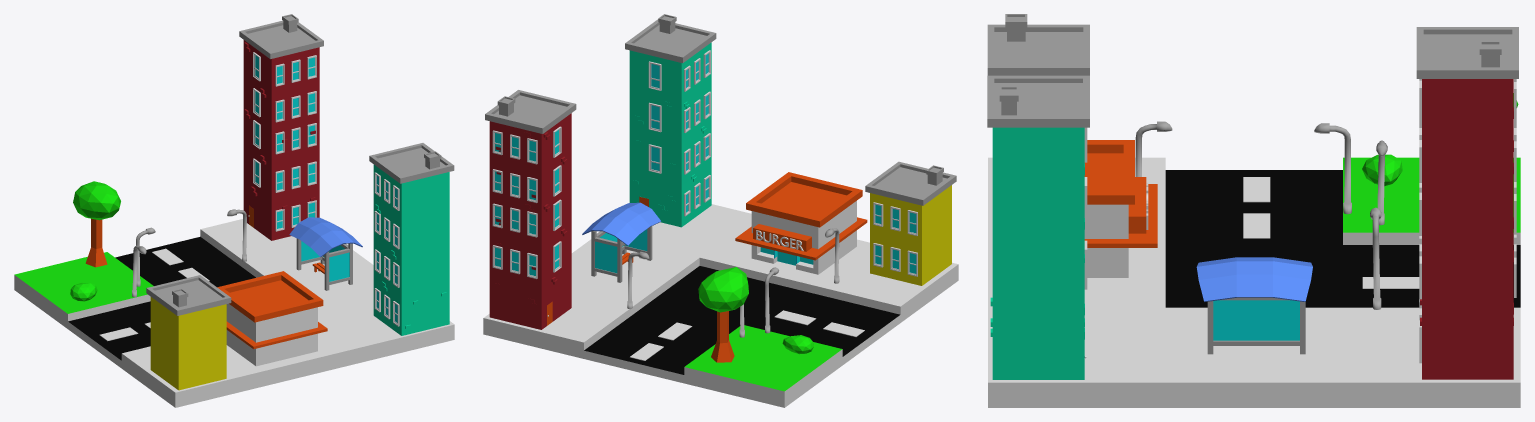
3 views of the same model, side by side, from view 1: azimuth 30°, elevation 25°; view 2: azimuth 150°, elevation 25°; view 3: azimuth 270°, elevation 25° (orthographic). The views are drawn at different scales.
Visible parts, largest first — view 1: Cube.006; view 2: Cube.006; view 3: Cube.006.
Part boxes in pixels (x1,y1,x2,y2): Cube.006: (14, 14, 454, 407); Cube.006: (483, 14, 958, 407); Cube.006: (987, 14, 1520, 407).
Bounding box in the file's own units: 200 × 146 × 200.
